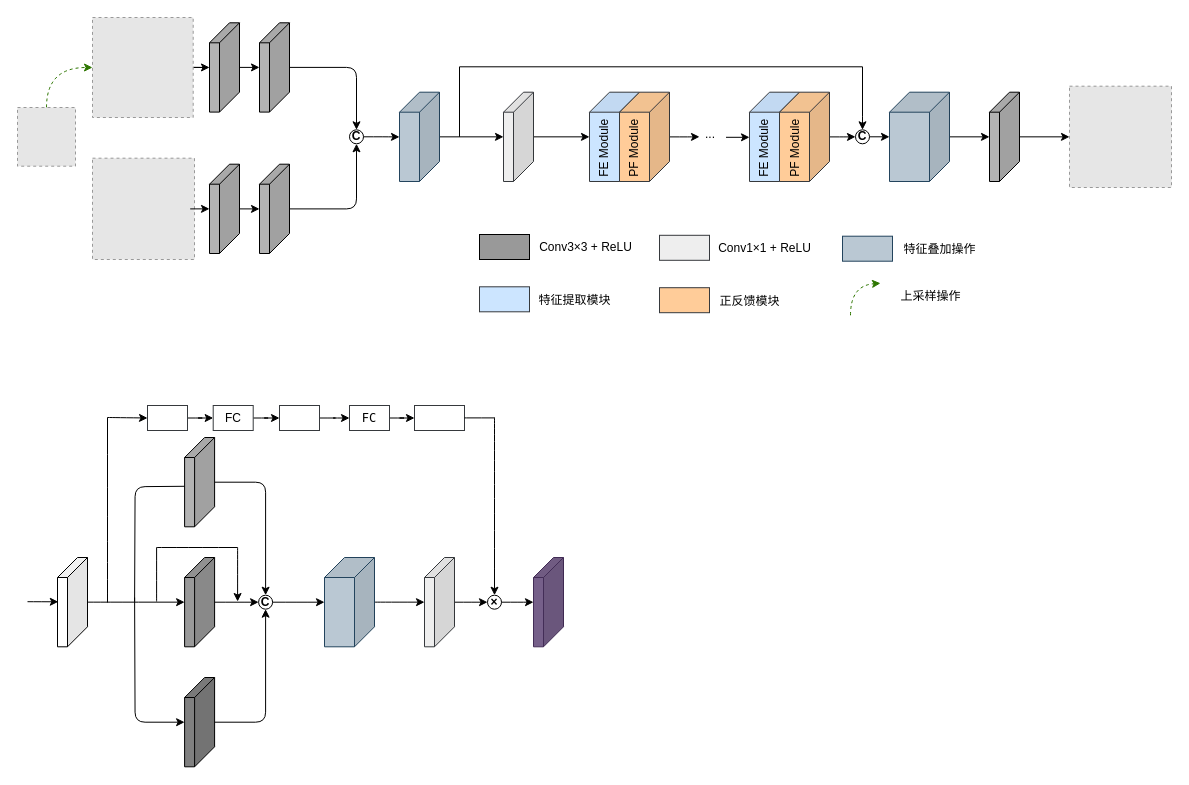
The diagram is 1189 pixels wide and 785 high, and some of its shapes have lost their labels. Grey dashed boxes stand in for pictures. Each missing label, with the centre of its shape:
H GP: the point at 167,417
ReLU: the point at 299,417
Sigmoid: the point at 439,417
